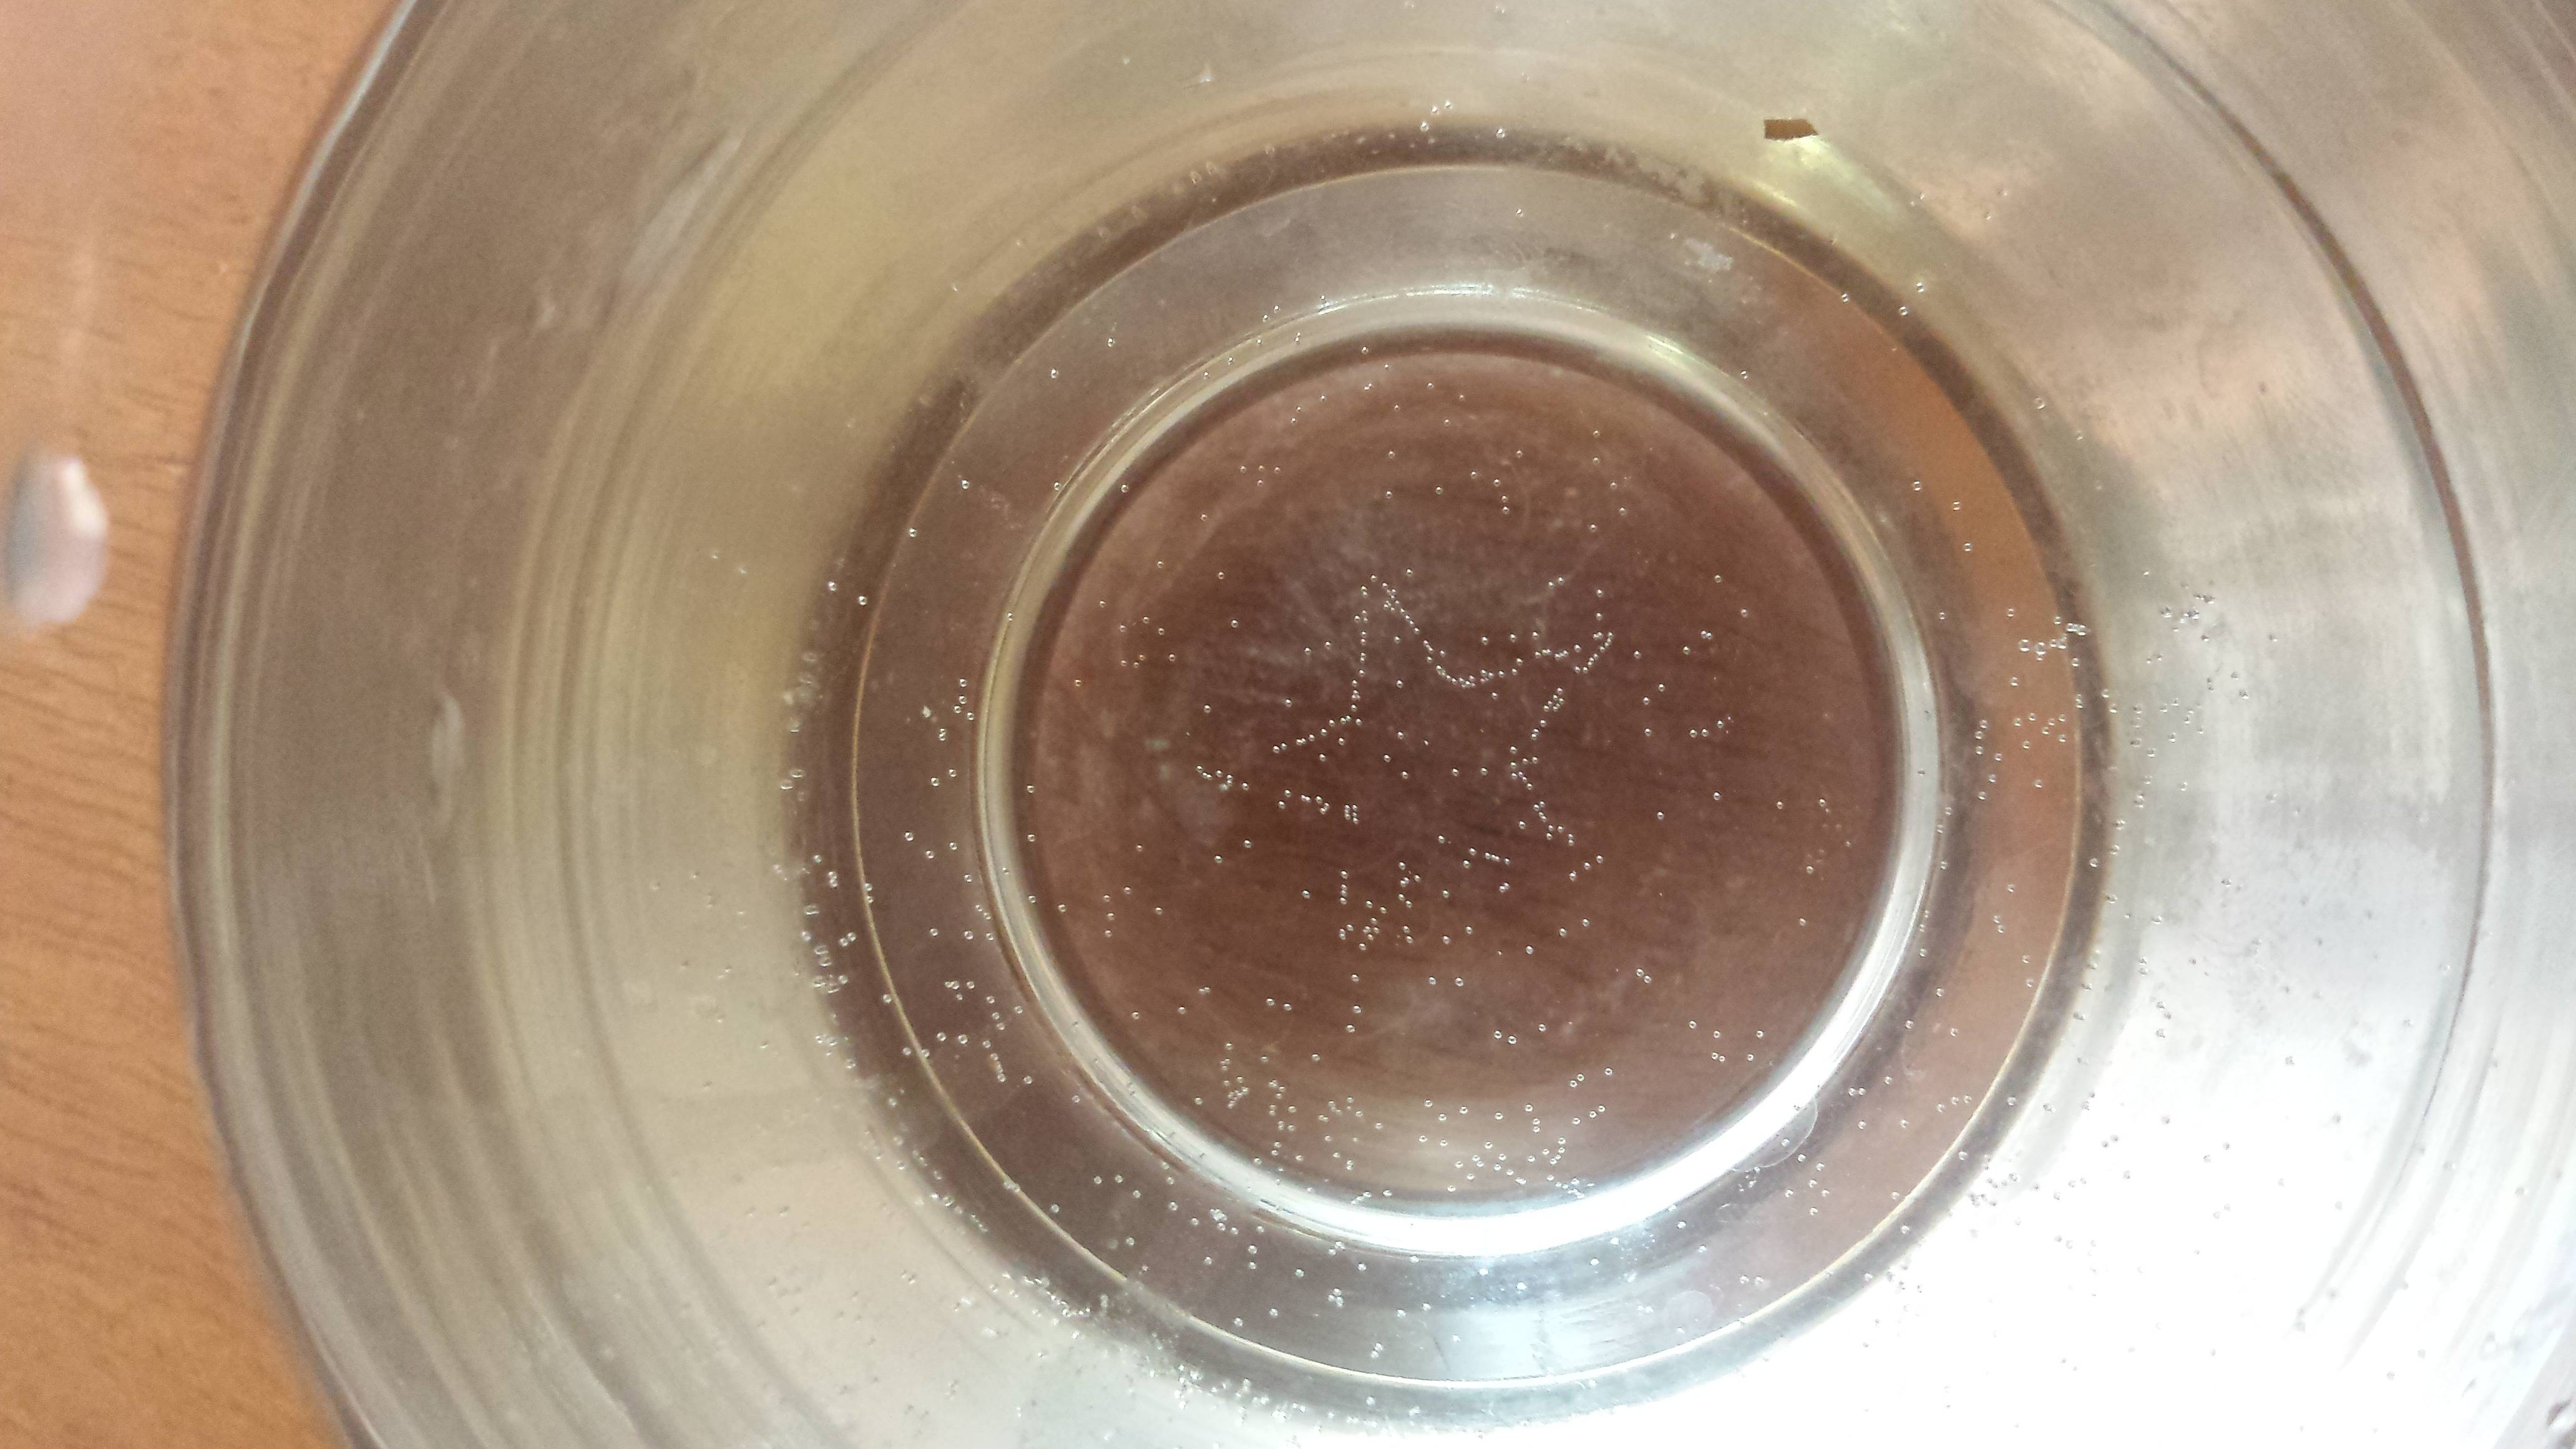glass of water: (421, 120, 2535, 1424)
